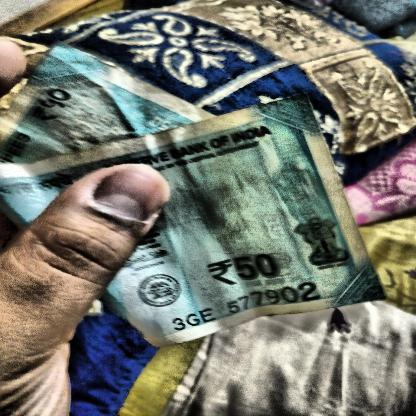Rs50: (197, 248, 289, 294)
